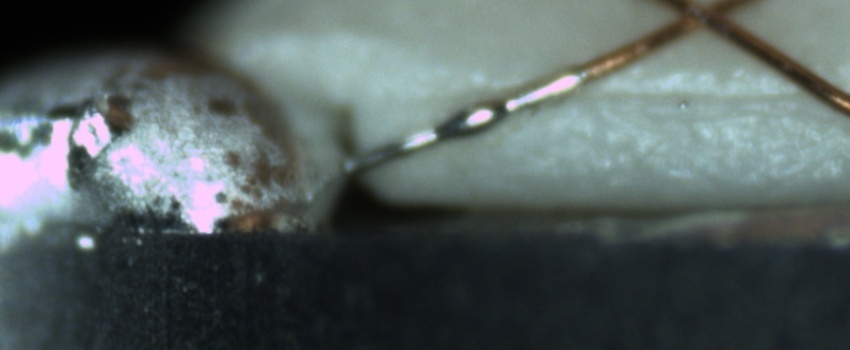CL: (661, 1, 740, 32)
DL: (585, 68, 830, 126)
TS: (350, 71, 587, 172)
TTCW: (342, 42, 628, 175)
